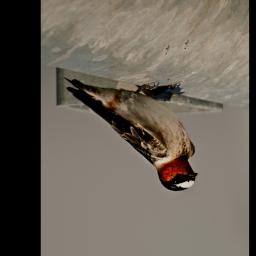Swallow: (63, 77, 200, 194)
